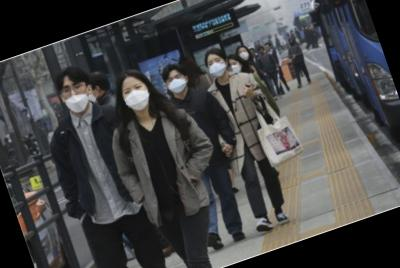mask_weared_incorrect: (60, 77, 96, 116)
with_mask: (120, 80, 156, 116), (205, 55, 230, 81), (165, 72, 189, 96), (227, 59, 244, 76), (237, 48, 252, 64), (288, 39, 296, 47)
without_mask: (259, 48, 266, 56), (265, 44, 271, 52)
